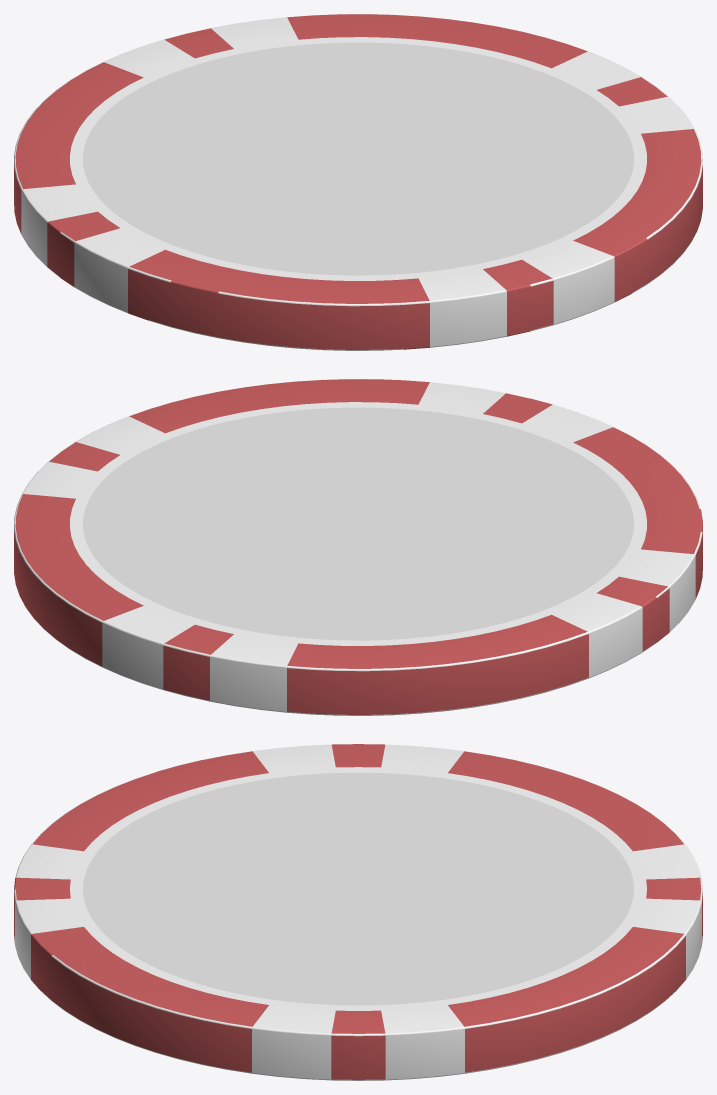
File: Red chip.fbx
The picture shows the model from 3 angles, top to bottom: view 1: azimuth 30°, elevation 25°; view 2: azimuth 150°, elevation 25°; view 3: azimuth 270°, elevation 25°; orthographic projection.
Parts seen in each view (by area): view 1: Chip_1; view 2: Chip_1; view 3: Chip_1.
Part boxes in pixels (box(x1,y1,x2,y2)): Chip_1: box(14, 14, 702, 350); Chip_1: box(14, 379, 702, 715); Chip_1: box(14, 744, 702, 1080).
Bounding box in the file's own units: 4 × 0.3 × 4.
